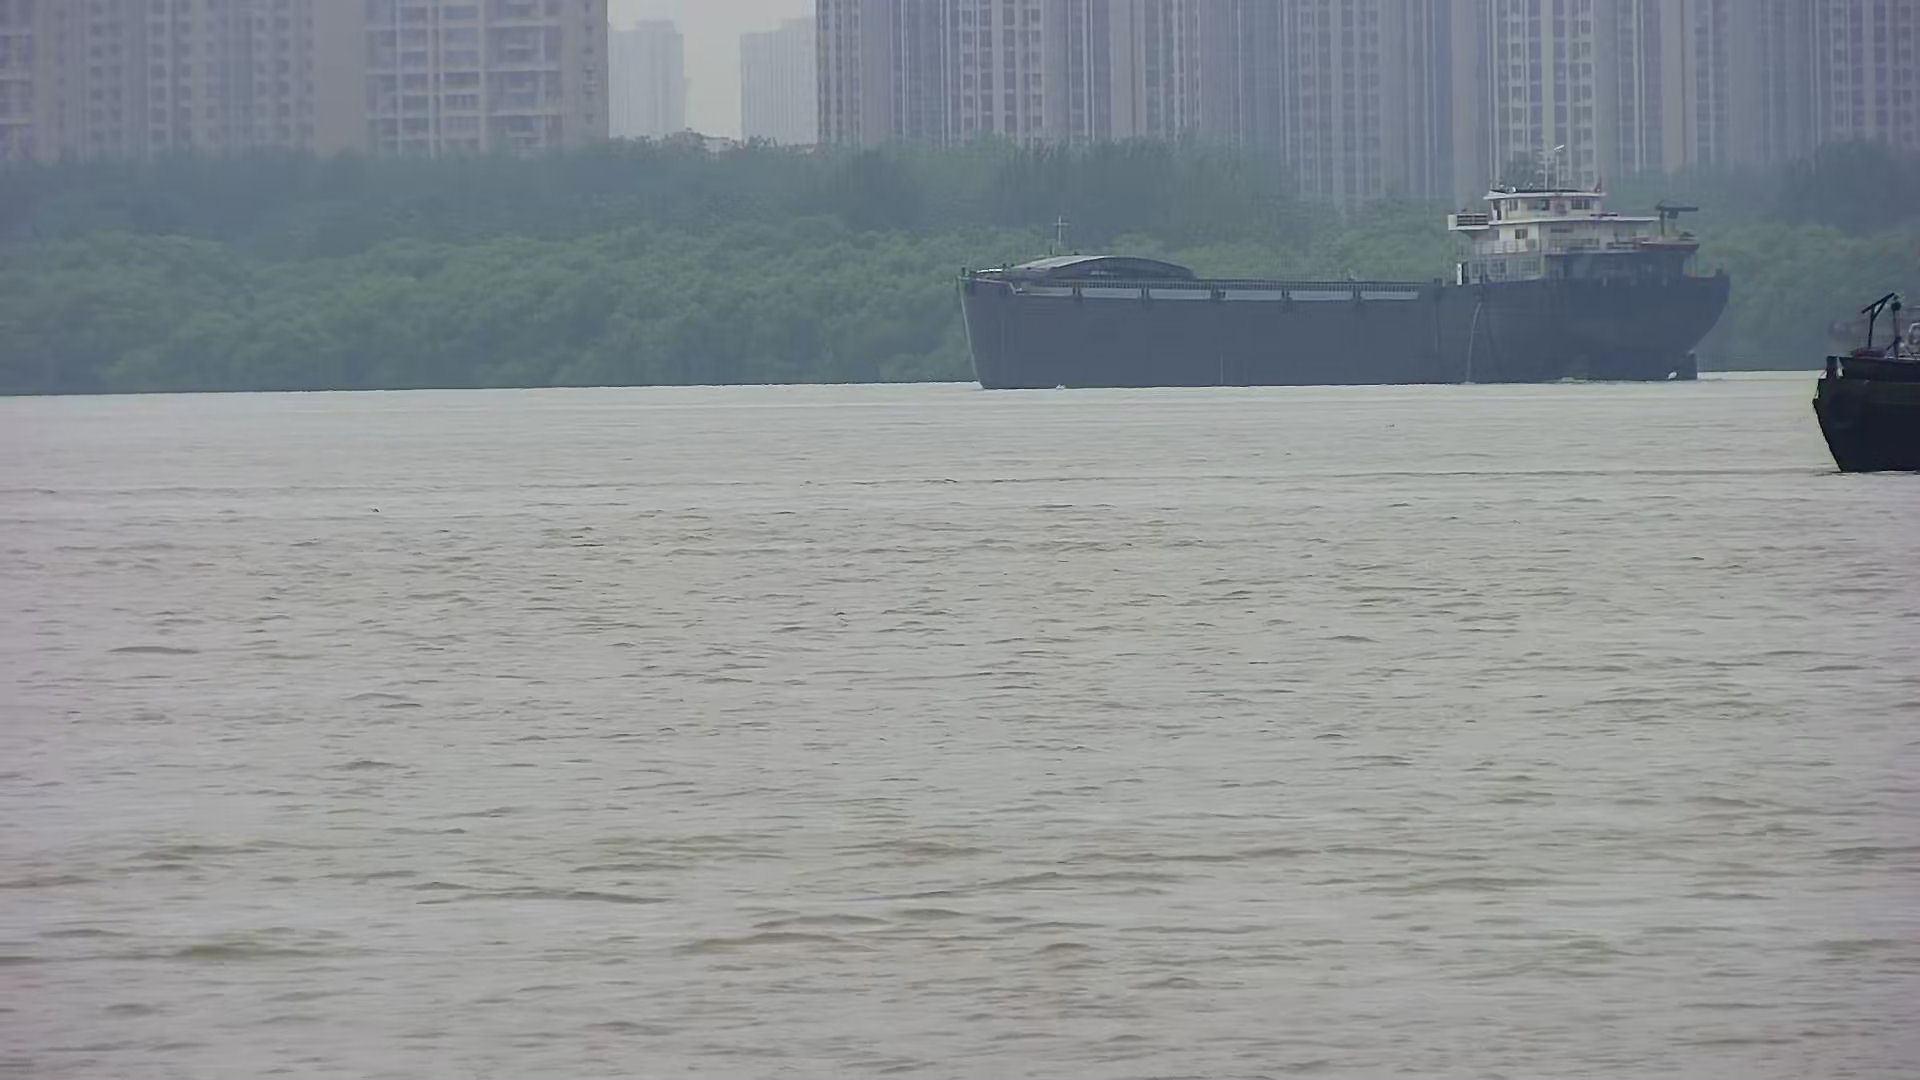ship: (944, 177, 1730, 390), (1813, 290, 1920, 473)
